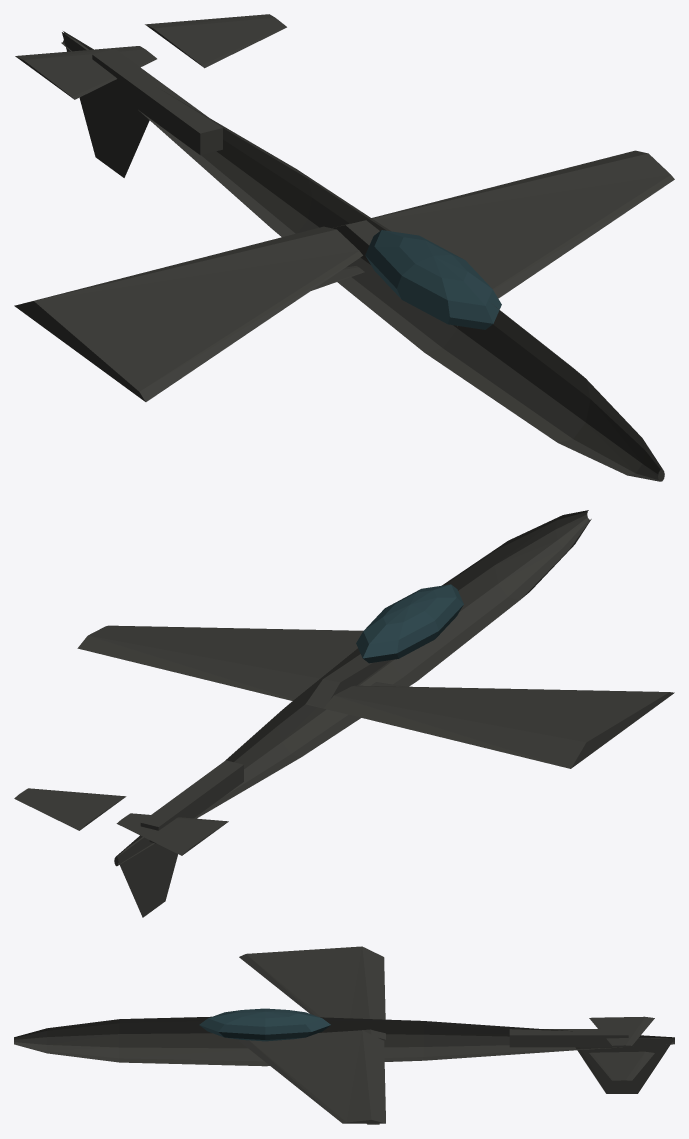
Rendered from j20_Destroyed.glb.
3 renders of one model, top to bottom at view 1: azimuth 30°, elevation 25°; view 2: azimuth 150°, elevation 25°; view 3: azimuth 270°, elevation 25°, orthographic. The views are drawn at different scales.
Parts seen in each view (by area): view 1: Fuselage, Wing_L, Wing_R, Cockpit, TailBoom, Rudder, Elevator_R, Elevator_L; view 2: Wing_L, Fuselage, Wing_R, Cockpit, Rudder, TailBoom, Elevator_R, Elevator_L; view 3: Fuselage, Wing_R, Wing_L, Cockpit, Rudder, TailBoom, Elevator_R, Elevator_L.
Boxes of the visible parts, x1,y1,x2,y2 form: Fuselage: (61, 31, 664, 481); Wing_L: (14, 226, 362, 401); Wing_R: (332, 150, 674, 326); Cockpit: (365, 230, 501, 329); TailBoom: (92, 49, 222, 154); Rudder: (62, 32, 149, 177); Elevator_R: (145, 14, 286, 68); Elevator_L: (15, 46, 156, 99); Wing_L: (323, 685, 674, 768); Fuselage: (114, 510, 591, 866); Wing_R: (77, 625, 391, 708); Cockpit: (356, 584, 463, 663); Rudder: (117, 837, 177, 917); TailBoom: (140, 760, 243, 843); Elevator_R: (14, 788, 126, 830); Elevator_L: (116, 813, 228, 855); Fuselage: (14, 1016, 674, 1066); Wing_R: (239, 1030, 385, 1123); Wing_L: (239, 946, 385, 1039); Cockpit: (199, 1008, 330, 1041); Rudder: (575, 1038, 674, 1093); TailBoom: (509, 1029, 628, 1047); Elevator_R: (589, 1051, 654, 1080); Elevator_L: (589, 1016, 654, 1045).
Size of the model in its own units: 12.48 by 2.85 by 20.8.
